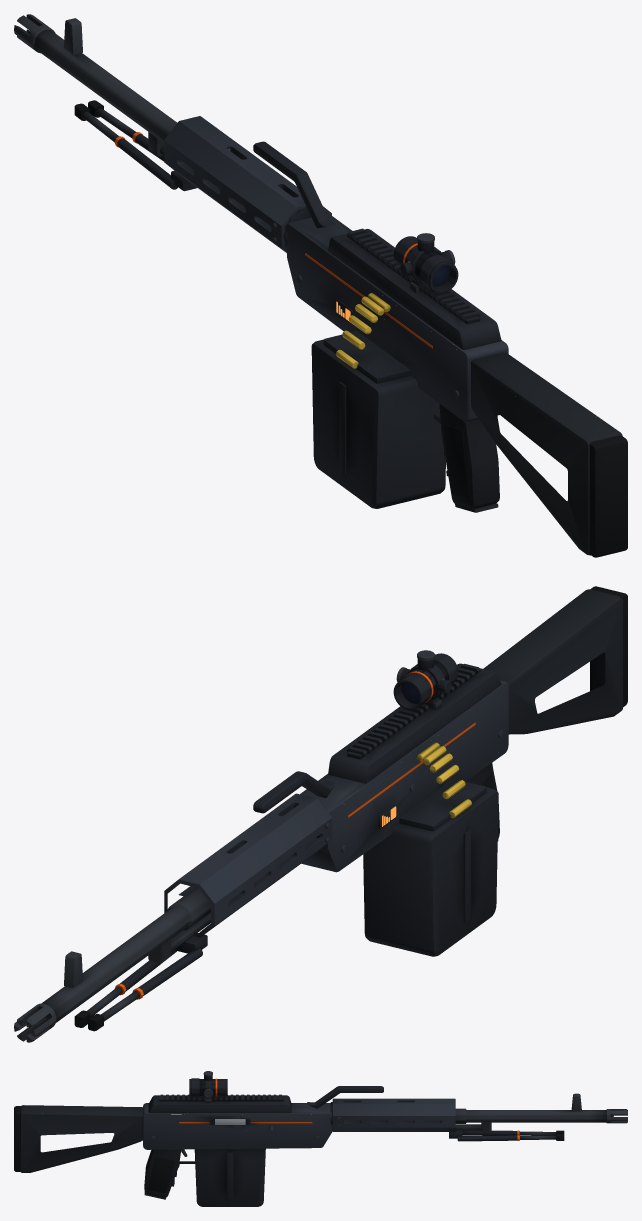
Rendered from pkp-pecheneg.glb.
3 renders of one model, top to bottom at view 1: azimuth 30°, elevation 25°; view 2: azimuth 150°, elevation 25°; view 3: azimuth 270°, elevation 25°, orthographic. The views are drawn at different scales.
Visible parts, largest first — view 1: body_frame, mag_frame2, body_frame2, body_furn, body_steel, body_rubber, body_polymer, body_brass; view 2: body_frame, mag_frame2, body_furn, body_frame2, body_steel, body_rubber, body_brass; view 3: body_frame, body_furn, body_frame2, mag_frame2, body_steel, body_rubber, body_polymer, body_accent.
Boxes of the visible parts, box(x1,y1,x2,y2) form: body_frame: box(164, 116, 508, 422); mag_frame2: box(311, 331, 445, 508); body_frame2: box(117, 134, 501, 512); body_furn: box(471, 352, 622, 555); body_steel: box(14, 14, 459, 397); body_rubber: box(74, 100, 627, 557); body_polymer: box(439, 404, 499, 508); body_brass: box(336, 293, 390, 368); body_frame: box(164, 680, 508, 937); mag_frame2: box(363, 778, 498, 956); body_furn: box(483, 589, 622, 734); body_frame2: box(120, 653, 501, 995); body_steel: box(14, 650, 503, 1042); body_rubber: box(74, 586, 627, 1031); body_brass: box(417, 742, 471, 818); body_frame: box(143, 1098, 455, 1149); body_furn: box(20, 1105, 142, 1172); body_frame2: box(144, 1075, 517, 1199); mag_frame2: box(194, 1148, 265, 1206); body_steel: box(151, 1071, 627, 1156); body_rubber: box(14, 1106, 564, 1193); body_polymer: box(144, 1119, 249, 1197); body_accent: box(179, 1078, 519, 1140).
Bounding box in the file's own units: 0.1205 × 0.2855 × 1.2.
